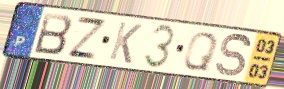3: (142, 23, 177, 71)
B: (32, 11, 74, 56)
K: (107, 20, 144, 66)
Q: (180, 31, 220, 73)
S: (214, 32, 253, 79)
Z: (65, 14, 110, 62)
